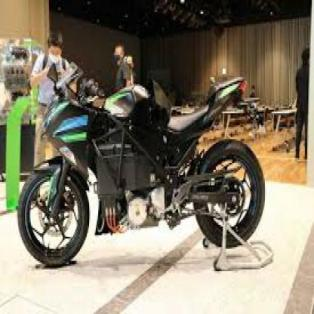Motocicleta: (16, 72, 266, 272)
